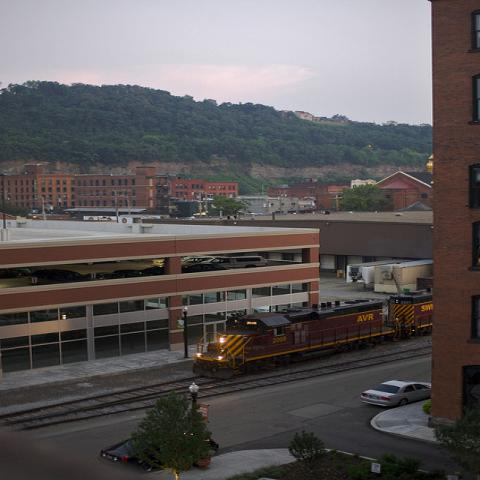car: (99, 437, 220, 473), (360, 379, 432, 407), (198, 256, 266, 268), (0, 270, 38, 288), (180, 255, 210, 270), (84, 271, 126, 280), (187, 263, 229, 272), (114, 270, 153, 278)
